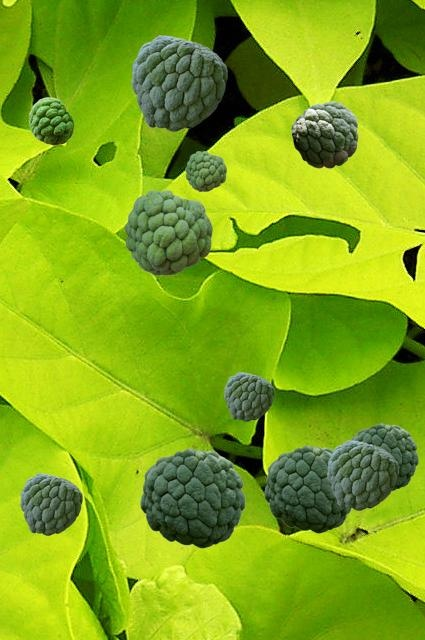atis: (140, 448, 244, 547), (131, 35, 226, 130), (264, 445, 351, 532), (124, 190, 211, 274), (327, 440, 397, 509), (350, 423, 417, 490), (291, 101, 357, 167), (20, 473, 81, 534), (224, 372, 273, 420), (29, 97, 73, 144), (185, 151, 225, 190)
